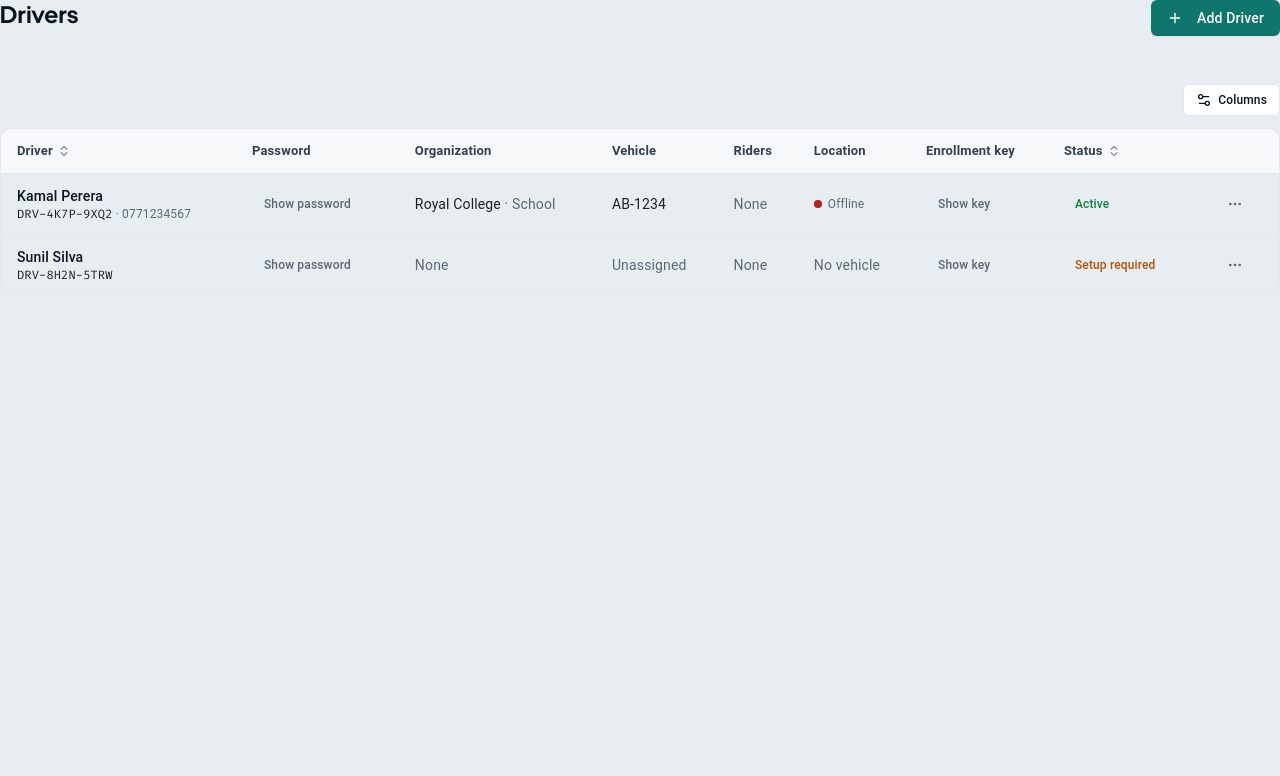
ManagerAccountsPage: add driver form › cannot name a new organization before a category is chosen
Click the button "Add Driver": (1215, 18) [1151,0,1279,36]
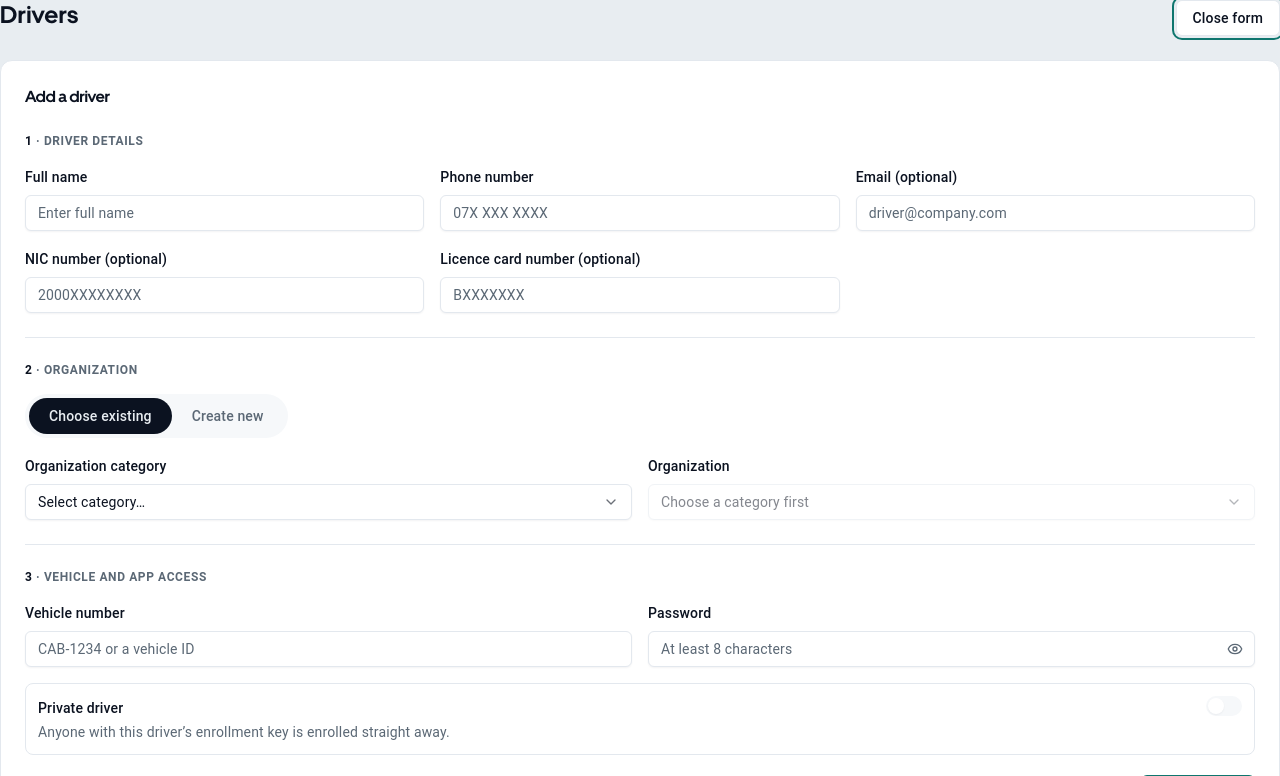
Click the button "Create new": (228, 416) [172,398,284,434]
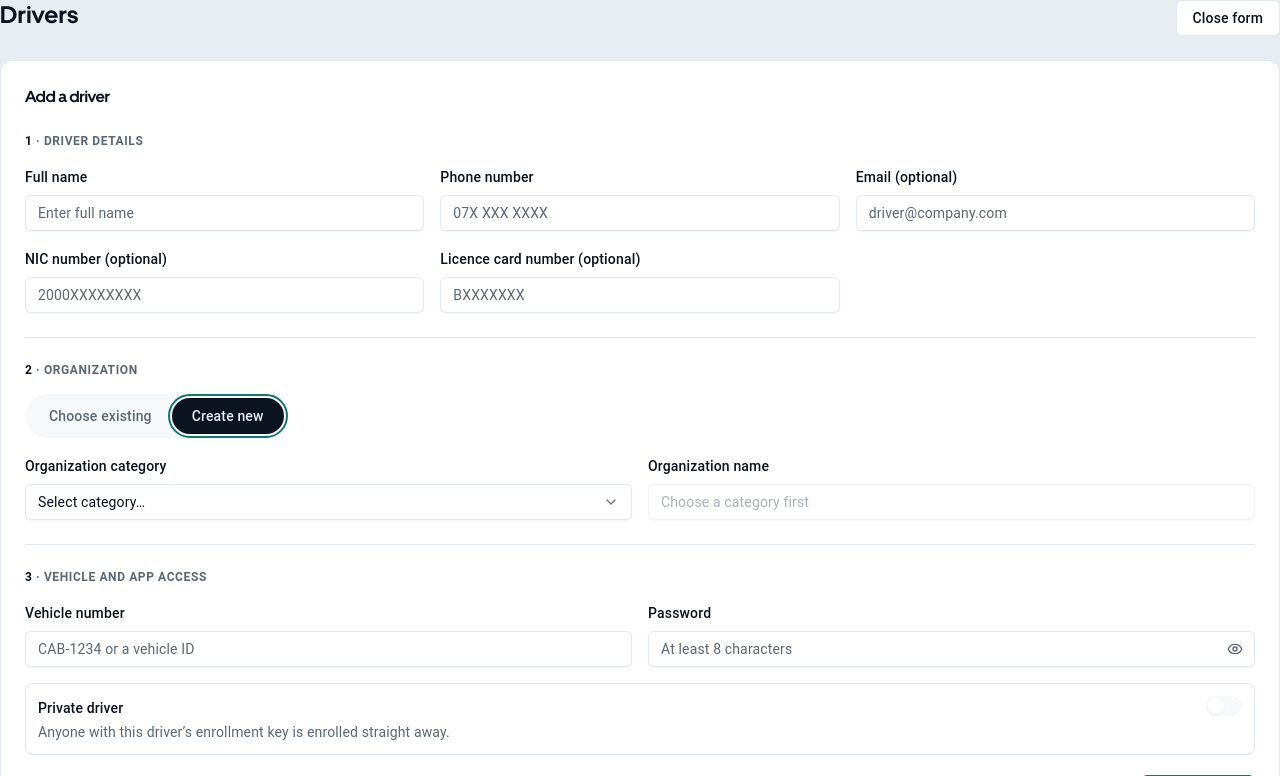
expect the field labelled "Organization name" is disabled: met, box [648,484,1255,520]
